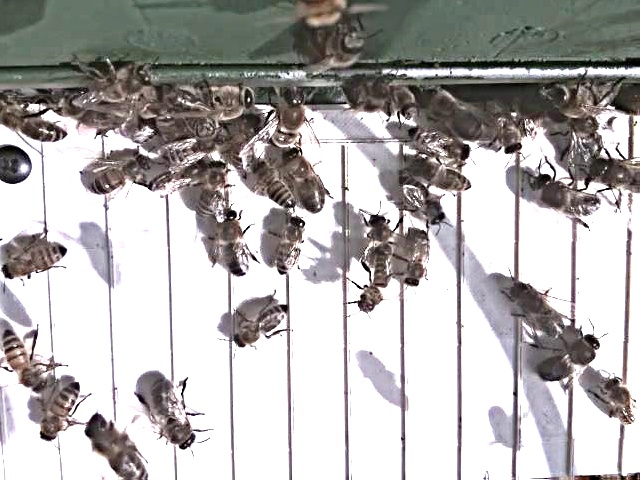Drone: (149, 376, 200, 457), (506, 281, 568, 345), (532, 174, 606, 226), (536, 333, 604, 386), (283, 148, 328, 220), (219, 208, 253, 282)
Worker: (0, 326, 50, 394), (394, 172, 449, 232), (231, 302, 294, 352), (39, 378, 85, 445), (86, 153, 153, 198), (0, 242, 70, 284), (357, 249, 396, 318), (250, 161, 298, 213), (414, 156, 474, 196), (274, 216, 308, 278), (600, 377, 640, 428), (195, 161, 228, 221), (402, 230, 432, 291)
